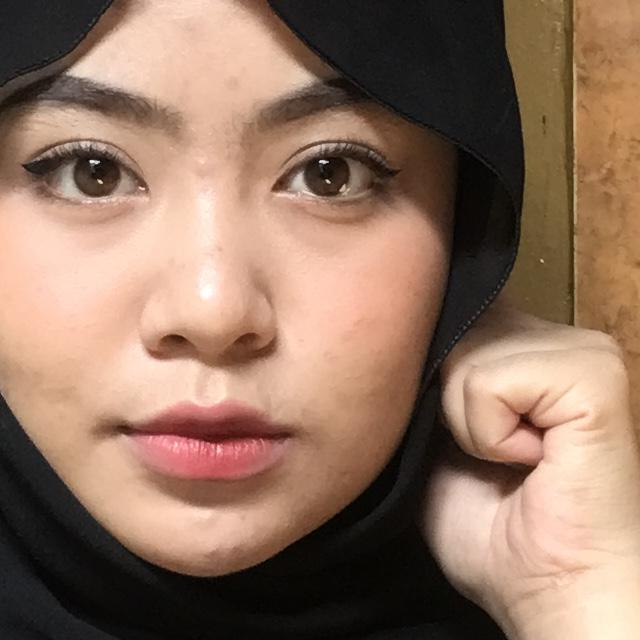ibu: (360, 276, 640, 640)
